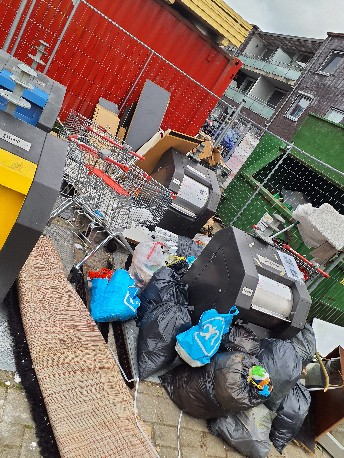Container: (206, 238, 298, 341), (164, 149, 231, 235)
Papier: (141, 109, 187, 177), (91, 105, 132, 152)
Rest: (36, 247, 149, 452), (88, 151, 158, 264), (57, 115, 119, 211), (192, 359, 257, 423), (138, 298, 187, 372), (91, 263, 134, 338), (253, 378, 316, 428), (141, 259, 188, 321), (169, 313, 233, 350), (319, 326, 344, 414), (130, 226, 168, 277), (227, 402, 270, 445), (268, 342, 302, 389)
